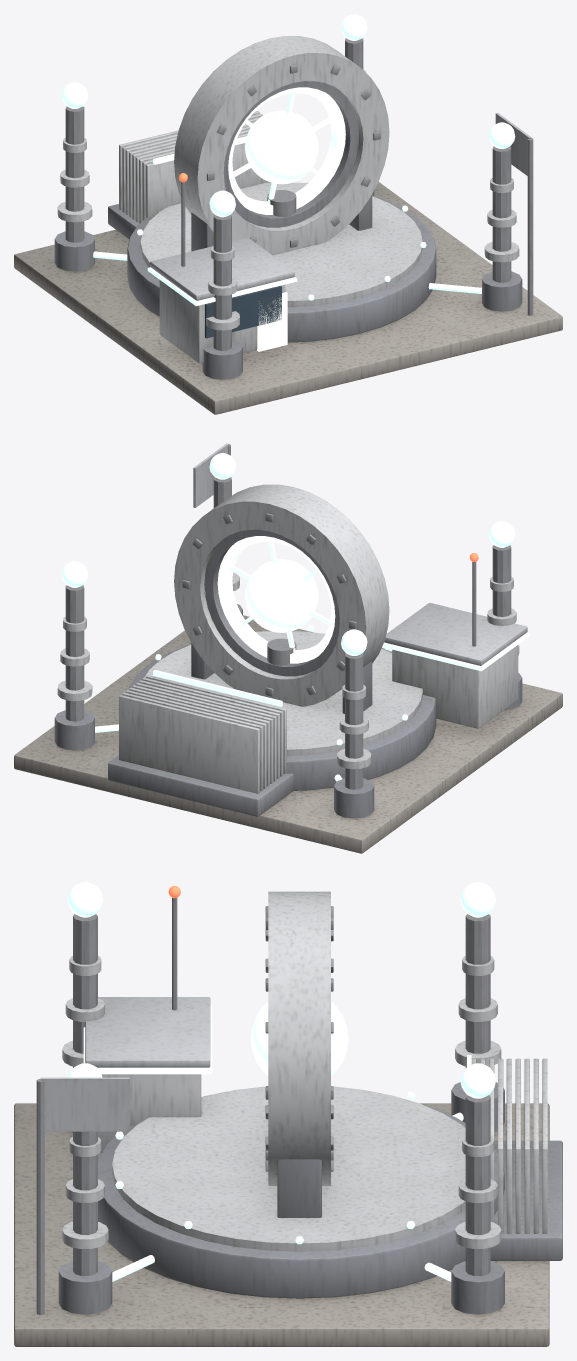
Rendered from west_power.glb.
3 views of the same model, one above another, from view 1: azimuth 30°, elevation 25°; view 2: azimuth 150°, elevation 25°; view 3: azimuth 270°, elevation 25° (orthographic). The views are drawn at different scales.
Parts seen in each view (by area): view 1: Hull; view 2: Hull; view 3: Hull.
Boxes of the visible parts, <box> form: Hull: <box>14,14,562,414</box>; Hull: <box>14,443,562,853</box>; Hull: <box>14,882,562,1346</box>.
Bounding box in the file's own units: 6 × 4.07 × 6.15.
10 materials, 10 textured.
